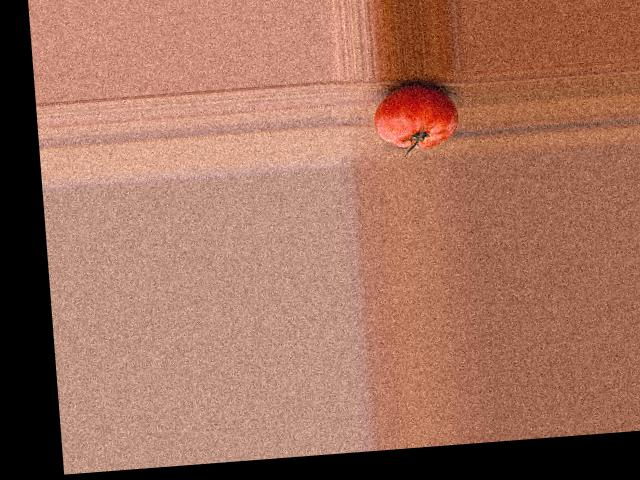tomato: (370, 81, 459, 151)
